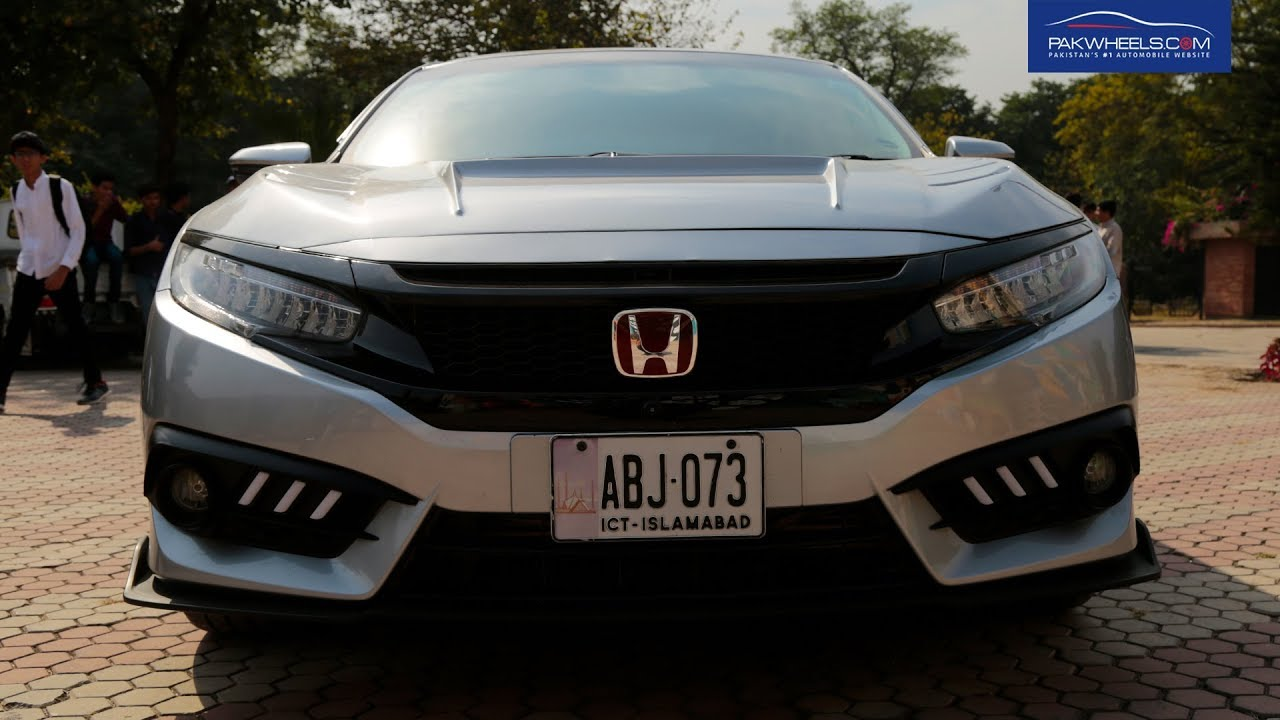Number Plate (Car): (546, 436, 765, 540)
